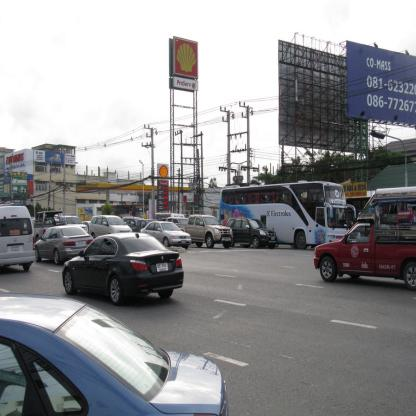Car: (1, 288, 229, 416), (1, 203, 285, 276), (58, 230, 187, 310)
